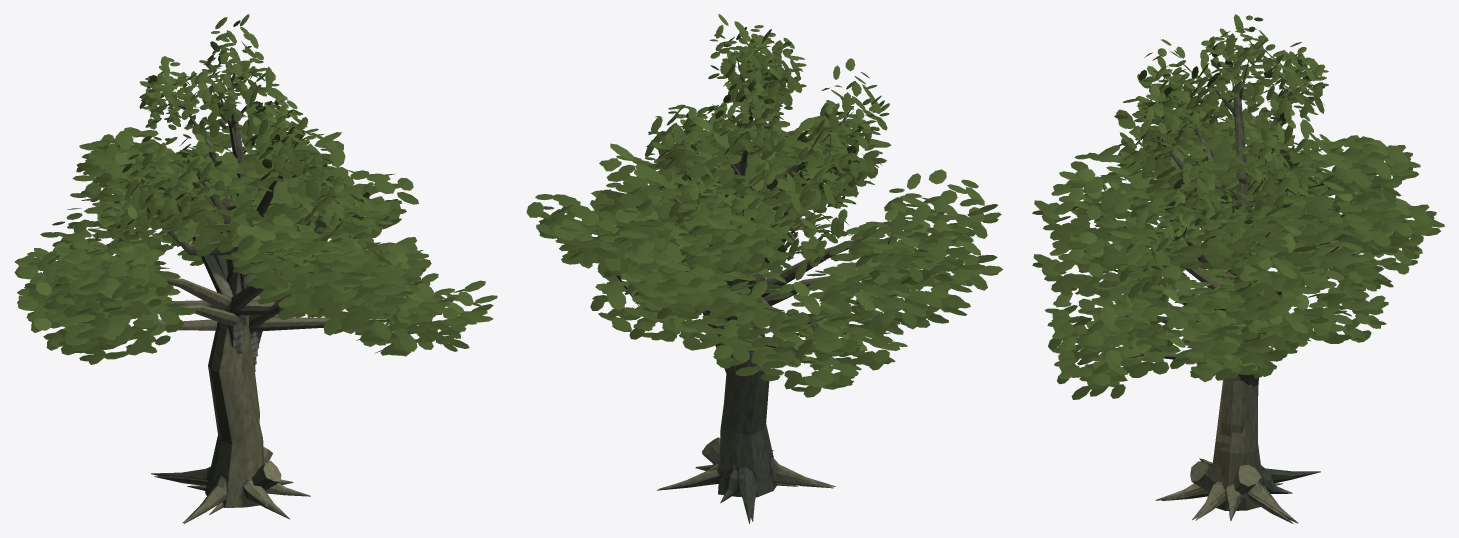
Rendered from forest.glb.
3 renders of one model, left to right at view 1: azimuth 30°, elevation 25°; view 2: azimuth 150°, elevation 25°; view 3: azimuth 270°, elevation 25°, orthographic.
Parts seen in each view (by area): view 1: Tree_Leaves, Tree_Leaning_Leaves, Tree_Tall_Leaves, Tree_Broadleaf, Tree_Tall, Tree_Leaning, Root_1; view 2: Tree_Leaves, Tree_Leaning_Leaves, Tree_Tall_Leaves, Tree_Broadleaf, Tree_Leaning, Tree_Tall; view 3: Tree_Leaning_Leaves, Tree_Leaves, Tree_Tall_Leaves, Tree_Broadleaf, Tree_Tall, Tree_Leaning, Root_1, Root_2.
Part boxes in pixels (x1=…): Tree_Leaves: x1=14, y1=118, x2=456, y2=344; Tree_Leaning_Leaves: x1=17, y1=132, x2=497, y2=364; Tree_Tall_Leaves: x1=100, y1=14, x2=392, y2=264; Tree_Broadleaf: x1=94, y1=176, x2=399, y2=523; Tree_Tall: x1=147, y1=63, x2=356, y2=487; Tree_Leaning: x1=130, y1=223, x2=329, y2=522; Root_1: x1=187, y1=460, x2=281, y2=490; Tree_Leaves: x1=595, y1=115, x2=1001, y2=370; Tree_Leaning_Leaves: x1=526, y1=137, x2=1002, y2=397; Tree_Tall_Leaves: x1=645, y1=14, x2=889, y2=280; Tree_Broadleaf: x1=651, y1=157, x2=939, y2=523; Tree_Leaning: x1=596, y1=188, x2=833, y2=521; Tree_Tall: x1=682, y1=57, x2=853, y2=482; Tree_Leaning_Leaves: x1=1032, y1=149, x2=1444, y2=399; Tree_Leaves: x1=1032, y1=90, x2=1420, y2=362; Tree_Tall_Leaves: x1=1117, y1=14, x2=1333, y2=298; Tree_Broadleaf: x1=1080, y1=157, x2=1375, y2=523; Tree_Tall: x1=1148, y1=59, x2=1304, y2=491; Tree_Leaning: x1=1082, y1=225, x2=1358, y2=523; Root_1: x1=1190, y1=461, x2=1282, y2=491; Root_2: x1=1234, y1=464, x2=1261, y2=494.
Size of what is drawn, in the model's own units: 9.79 by 10.92 by 8.45.
2 materials, 1 textured.
